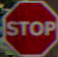Stop: (8, 5, 52, 49)
